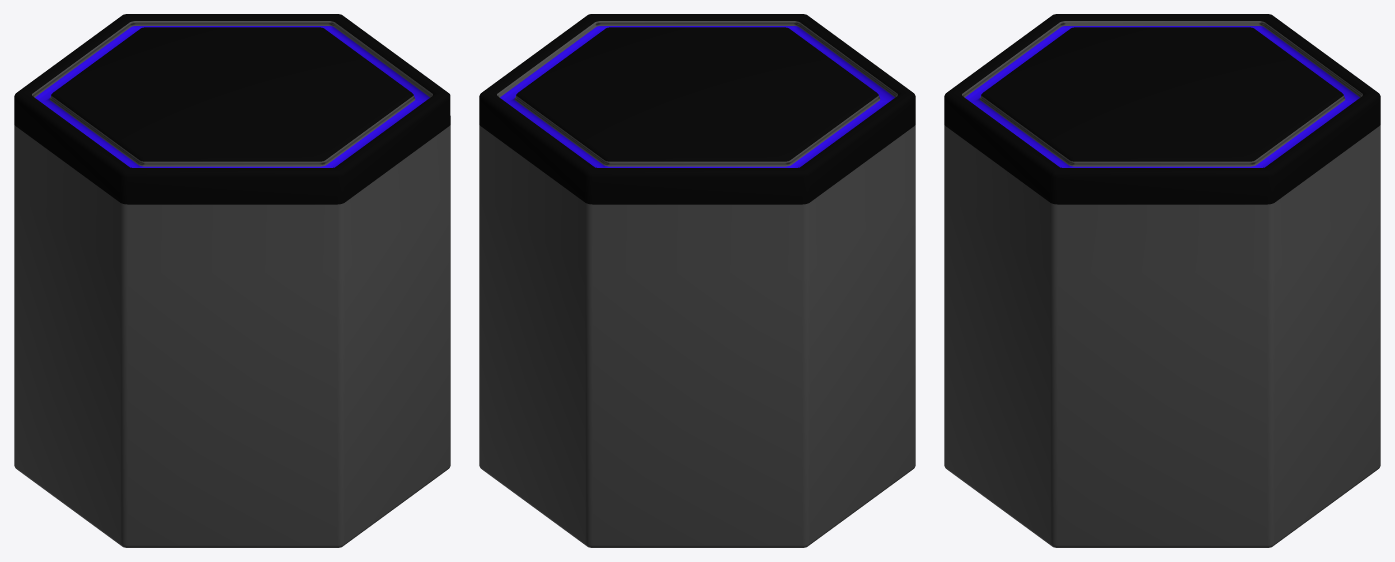
File: HexTileBase 1.fbx
The picture shows the model from 3 angles, left to right: view 1: azimuth 30°, elevation 25°; view 2: azimuth 150°, elevation 25°; view 3: azimuth 270°, elevation 25°; orthographic projection.
Parts seen in each view (by area): view 1: Cylinder; view 2: Cylinder; view 3: Cylinder.
Part boxes in pixels (x1,y1,x2,y2): Cylinder: [14, 14, 450, 547]; Cylinder: [479, 14, 915, 547]; Cylinder: [944, 14, 1380, 547].
Bounding box in the file's own units: 173 × 199 × 189.
